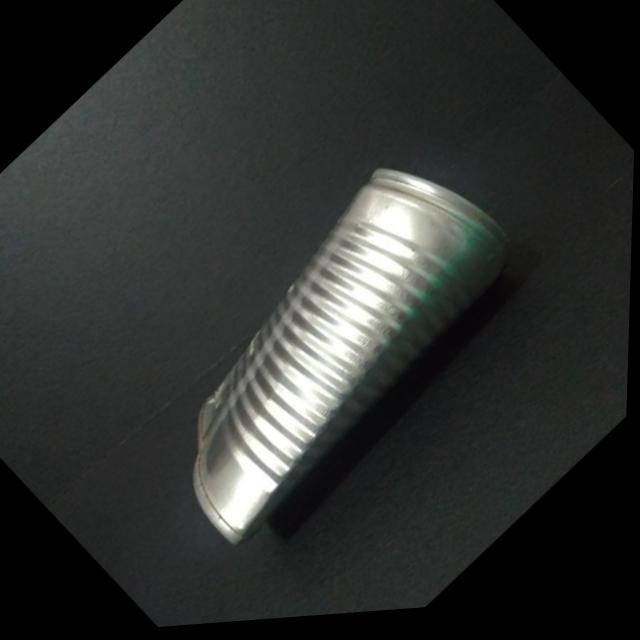metal: (194, 169, 504, 543)
